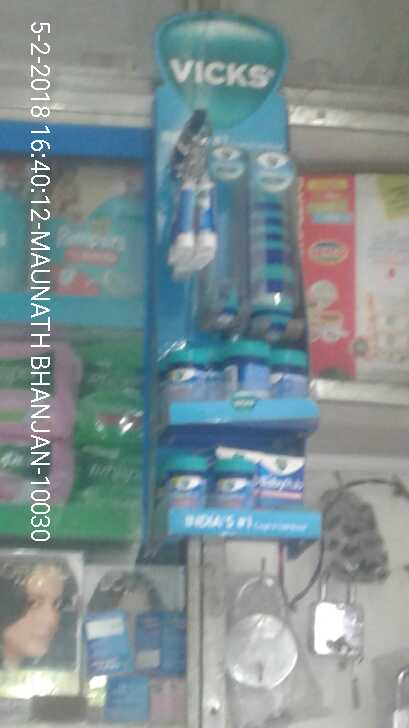pharmacy: (44, 146, 146, 304), (237, 166, 305, 338), (160, 337, 302, 405), (74, 345, 152, 447), (164, 170, 220, 278), (263, 445, 308, 512), (163, 449, 206, 508), (212, 462, 252, 508)
